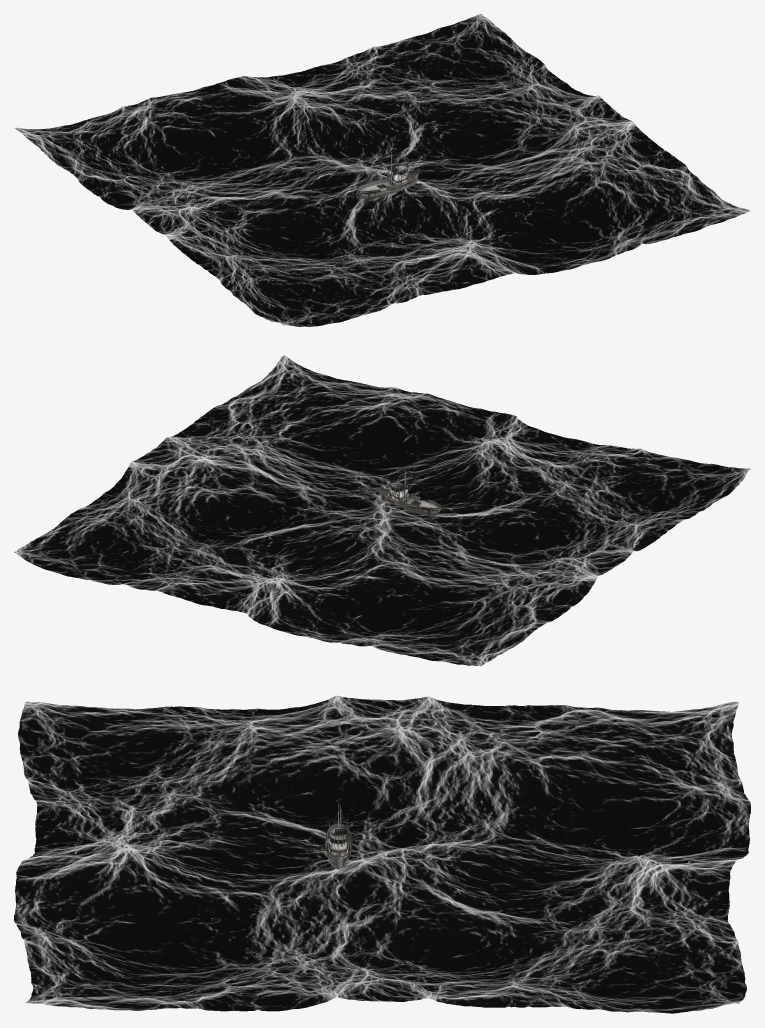
The model's file is fishing boat.fbx.
3 views of the same model, one above another, from view 1: azimuth 30°, elevation 25°; view 2: azimuth 150°, elevation 25°; view 3: azimuth 270°, elevation 25° (orthographic). The views are drawn at different scales.
Parts seen in each view (by area): view 1: Plane, boat_fishing_02; view 2: Plane, boat_fishing_02; view 3: Plane, boat_fishing_02.
Part boxes in pixels (box(x1,y1,x2,y2)): Plane: box(14, 14, 750, 326); boat_fishing_02: box(357, 150, 419, 199); Plane: box(14, 355, 750, 666); boat_fishing_02: box(379, 468, 441, 515); Plane: box(14, 695, 750, 1013); boat_fishing_02: box(324, 802, 352, 869).
Bounding box in the file's own units: 28397 × 2969 × 28869.
Materials: 3 (1 with a texture image).
